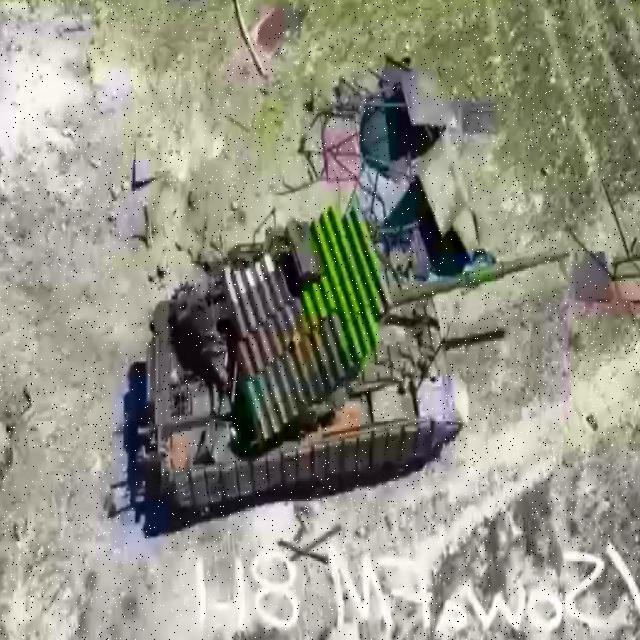TANK: (144, 197, 574, 548)
